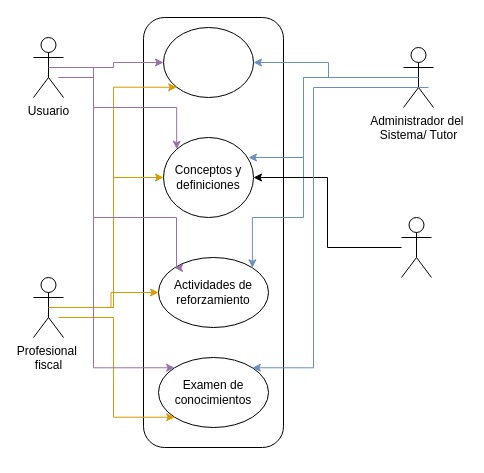
Some shapes in this 484 by 473 pixel diagram are drawn without their labels. Each missing label, with the centre of its shape:
"Leyes Fiscales" belongs at point (416, 247).
"Objetivos de la lección" belongs at point (208, 62).
